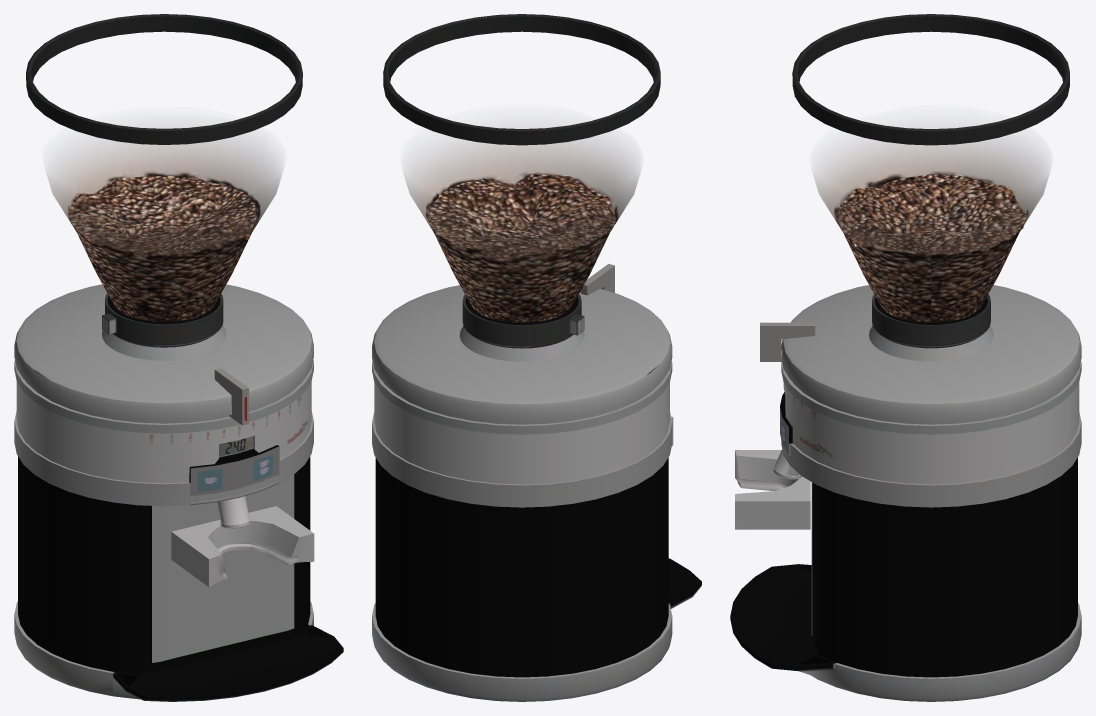
Rendered from coffee_grinder.glb.
3 renders of one model, left to right at view 1: azimuth 30°, elevation 25°; view 2: azimuth 150°, elevation 25°; view 3: azimuth 270°, elevation 25°, orthographic.
Parts seen in each view (by area): view 1: beans_1_Mat_0; view 2: beans_1_Mat_0; view 3: beans_1_Mat_0.
Part boxes in pixels (x1=…): beans_1_Mat_0: x1=14, y1=14, x2=343, y2=701; beans_1_Mat_0: x1=372, y1=14, x2=701, y2=701; beans_1_Mat_0: x1=730, y1=14, x2=1081, y2=701.
Bounding box in the file's own units: 1.81 × 3.78 × 2.11.
1 material, 1 textured.
